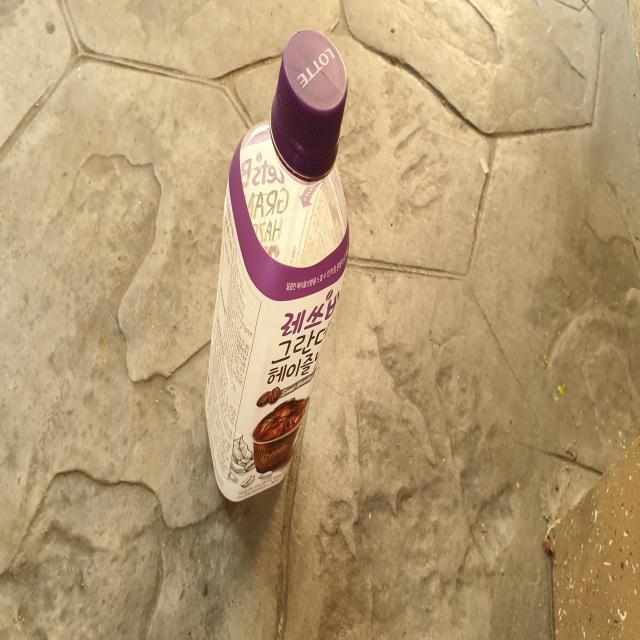plastic: (205, 28, 349, 501)
